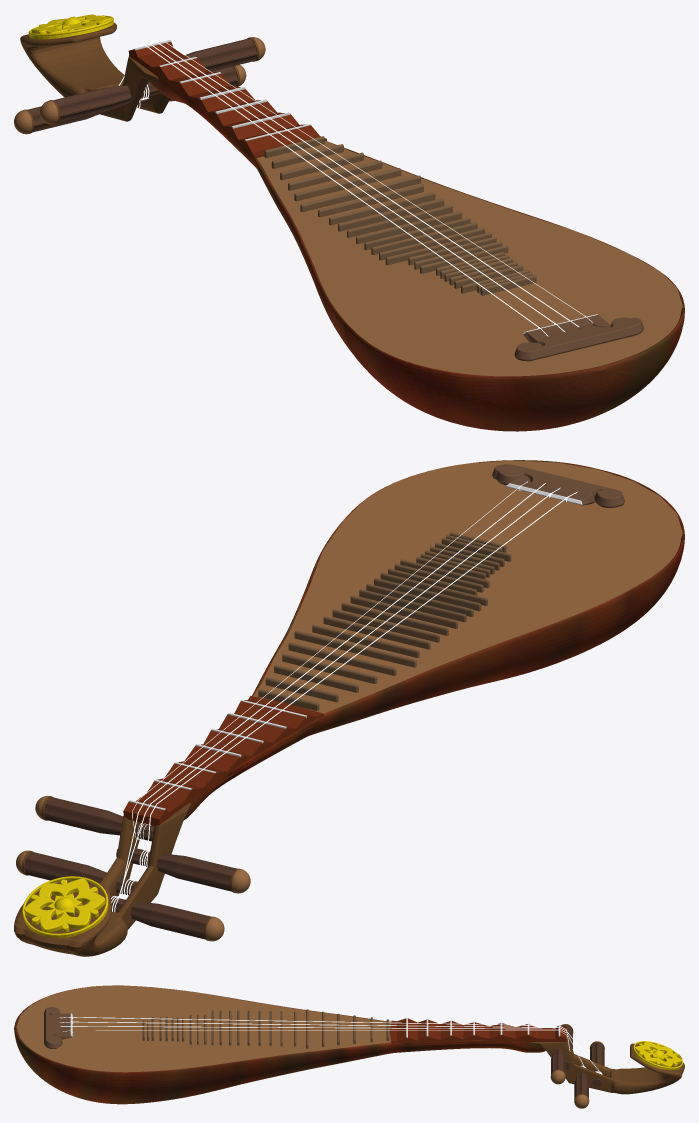
Rendered from pipa.glb.
The picture shows the model from 3 angles, top to bottom: view 1: azimuth 30°, elevation 25°; view 2: azimuth 150°, elevation 25°; view 3: azimuth 270°, elevation 25°; orthographic projection. The views are drawn at different scales.
Visible parts, largest first — view 1: 封顶_11, 球体_1, 立方体25, 挤压1, 立方体_2, 挤压2, 扫描, 平滑_1_9, 平滑_1_1, 平滑_1_7, 立方体7; view 2: 封顶_11, 立方体25, 球体_1, 挤压1, 立方体_2, 平滑_1_1, 扫描, 挤压2, 平滑_1_7, 平滑_1_9, 平滑_1_10, 平滑_1_8 (+1 smaller); view 3: 封顶_11, 球体_1, 挤压1, 立方体_2, 扫描, 立方体25, 平滑_1_1, 挤压2, 平滑_1_10, 平滑_1_8, 平滑_1_7, 立方体7.
Part boxes in pixels (box(x1,y1,x2,y2)): 封顶_11: box(257, 141, 682, 376); 球体_1: box(149, 78, 684, 431); 立方体25: box(264, 136, 536, 295); 挤压1: box(128, 42, 326, 163); 立方体_2: box(20, 22, 169, 121); 挤压2: box(514, 315, 643, 361); 扫描: box(118, 39, 592, 336); 平滑_1_9: box(53, 82, 160, 122); 平滑_1_1: box(28, 14, 113, 39); 平滑_1_7: box(148, 38, 257, 82); 立方体7: box(134, 40, 310, 141); 封顶_11: box(253, 460, 682, 713); 立方体25: box(258, 532, 511, 710); 球体_1: box(151, 460, 684, 826); 挤压1: box(123, 695, 323, 825); 立方体_2: box(14, 797, 191, 956); 平滑_1_1: box(22, 876, 108, 938); 扫描: box(111, 481, 577, 911); 挤压2: box(492, 464, 624, 507); 平滑_1_7: box(43, 797, 154, 841); 平滑_1_9: box(116, 848, 237, 891); 平滑_1_10: box(110, 896, 210, 939); 平滑_1_8: box(24, 852, 137, 895); 封顶_11: box(16, 985, 390, 1072); 球体_1: box(14, 985, 545, 1104); 挤压1: box(390, 1018, 566, 1046); 立方体_2: box(529, 1033, 684, 1094); 扫描: box(59, 1017, 602, 1074); 立方体25: box(142, 1009, 389, 1048); 平滑_1_1: box(633, 1041, 682, 1069); 挤压2: box(44, 1007, 71, 1048); 平滑_1_10: box(590, 1042, 604, 1087); 平滑_1_8: box(574, 1064, 588, 1098); 平滑_1_7: box(551, 1048, 565, 1074); 立方体7: box(406, 1018, 560, 1038).
Bounding box in the file's own units: 56.09 × 20.89 × 182.
Materials: 19 (1 with a texture image).
